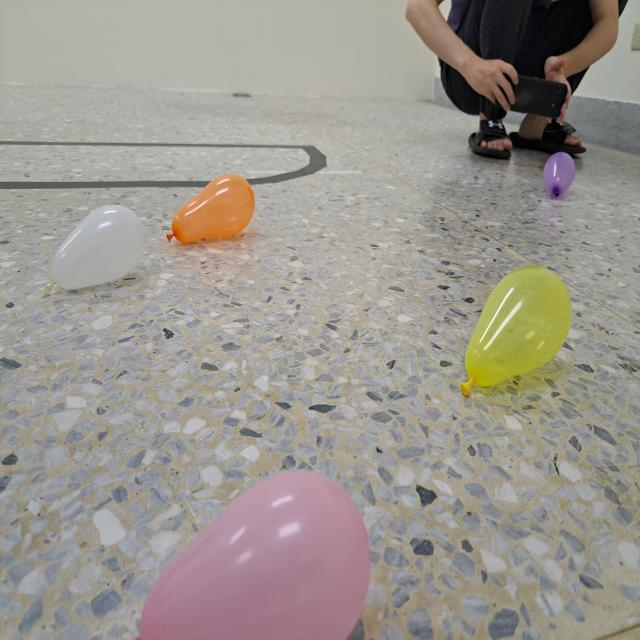other: (133, 467, 370, 640), (461, 267, 572, 398), (38, 204, 146, 298), (166, 174, 256, 246), (542, 152, 576, 200)
